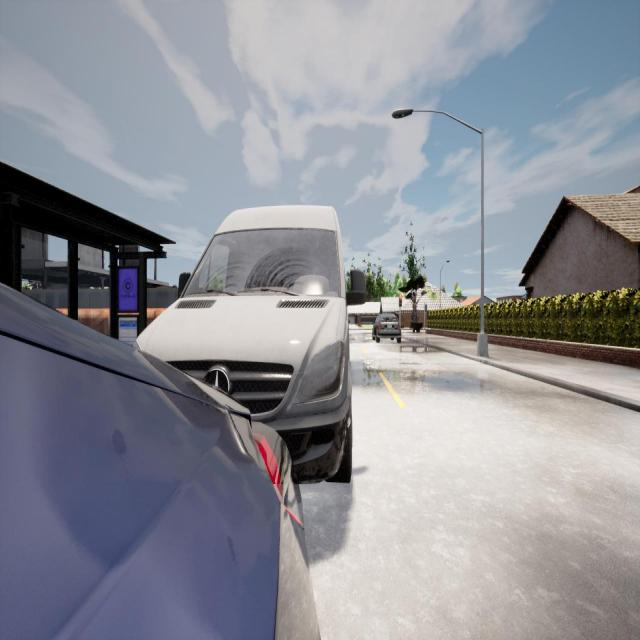Vehicle: (0, 283, 319, 638), (127, 207, 364, 483), (372, 313, 402, 343)
traffic_light: (399, 295, 402, 307), (425, 304, 427, 312)
